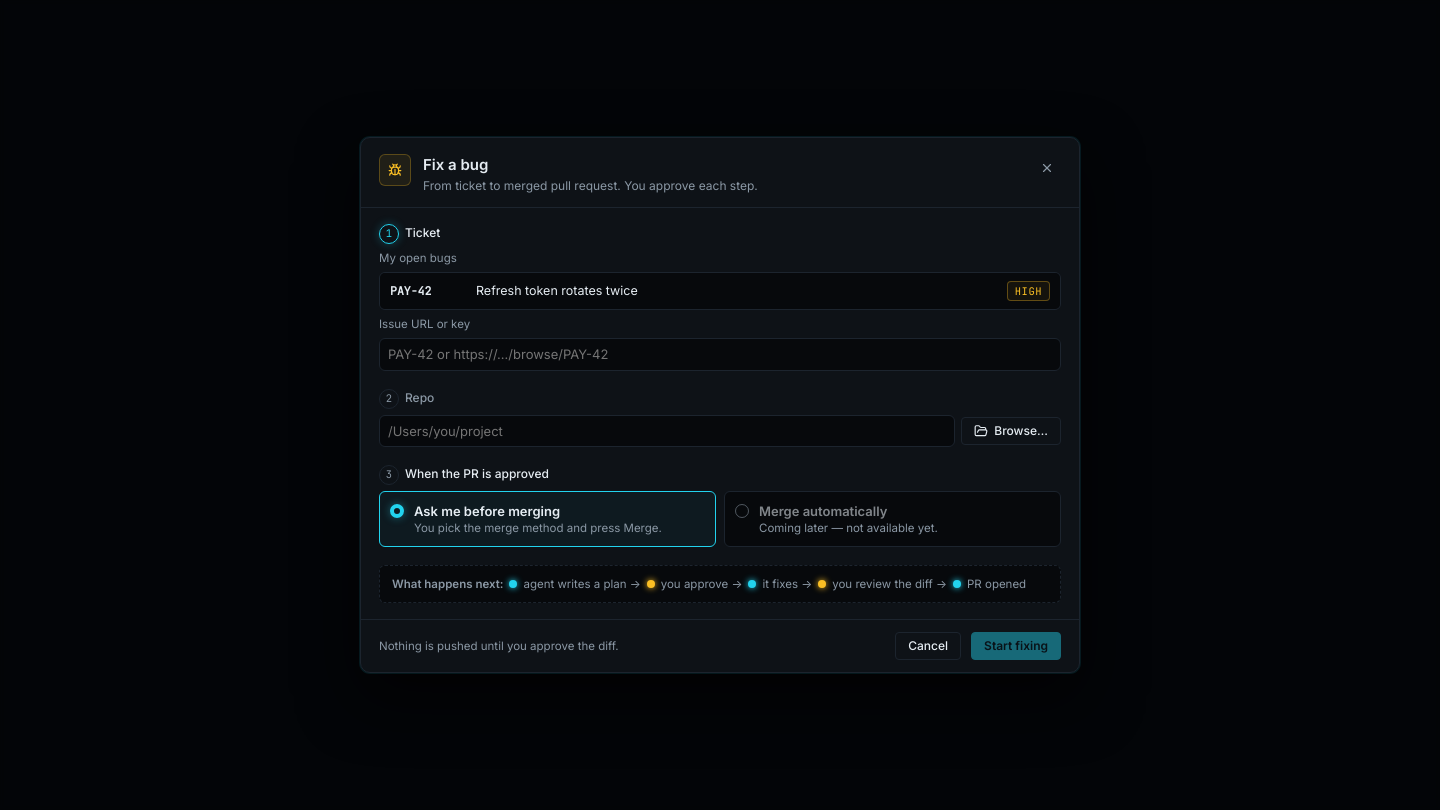
Test: BugLauncher › surfaces a failed issue lookup instead of silently doing nothing
Type "PAY-42" into the field labelled "Issue URL or key" at {"x": 720, "y": 355}, box [379,338,1061,371]
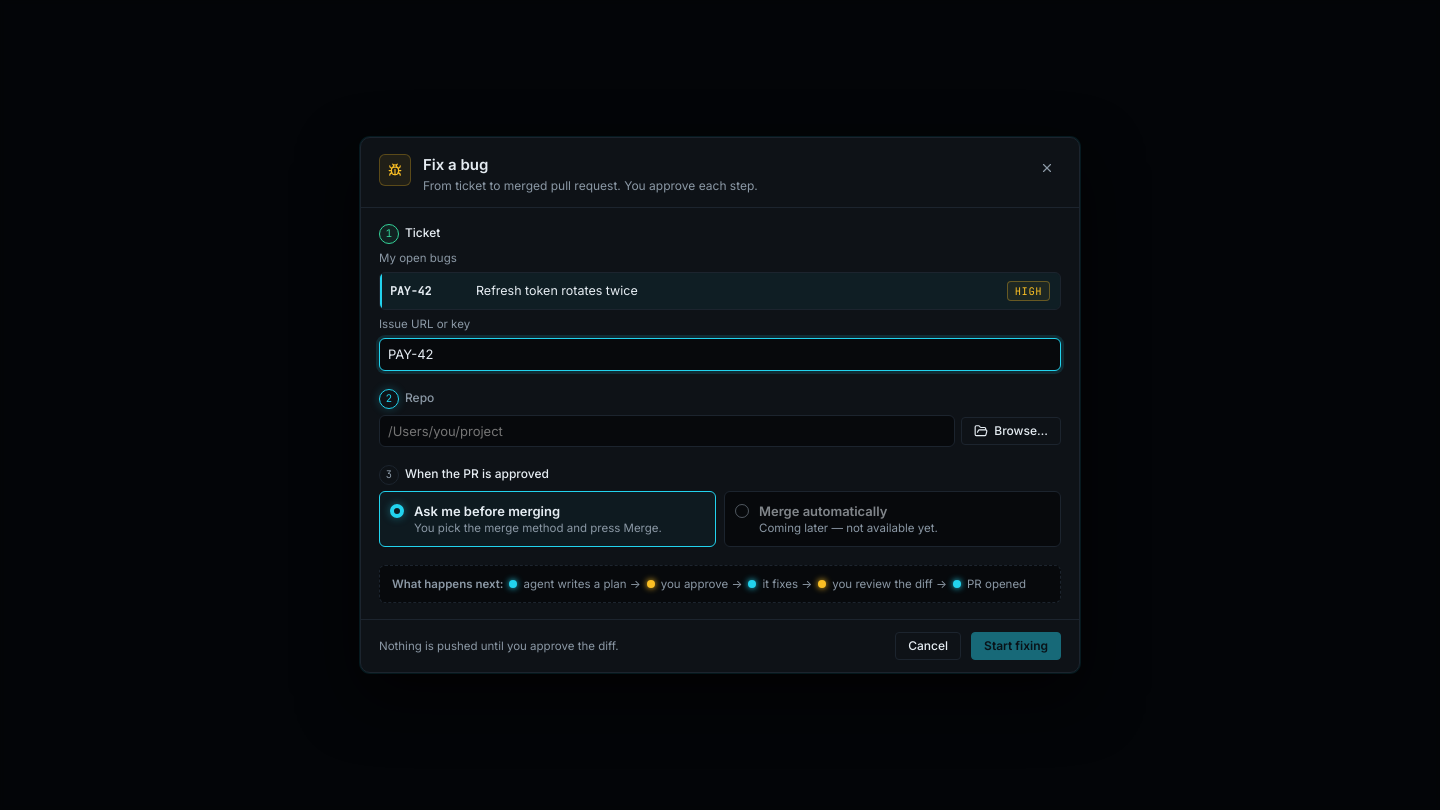
Type "/r/payments" into the field labelled "Repo" at {"x": 667, "y": 431}, box [379,415,955,447]
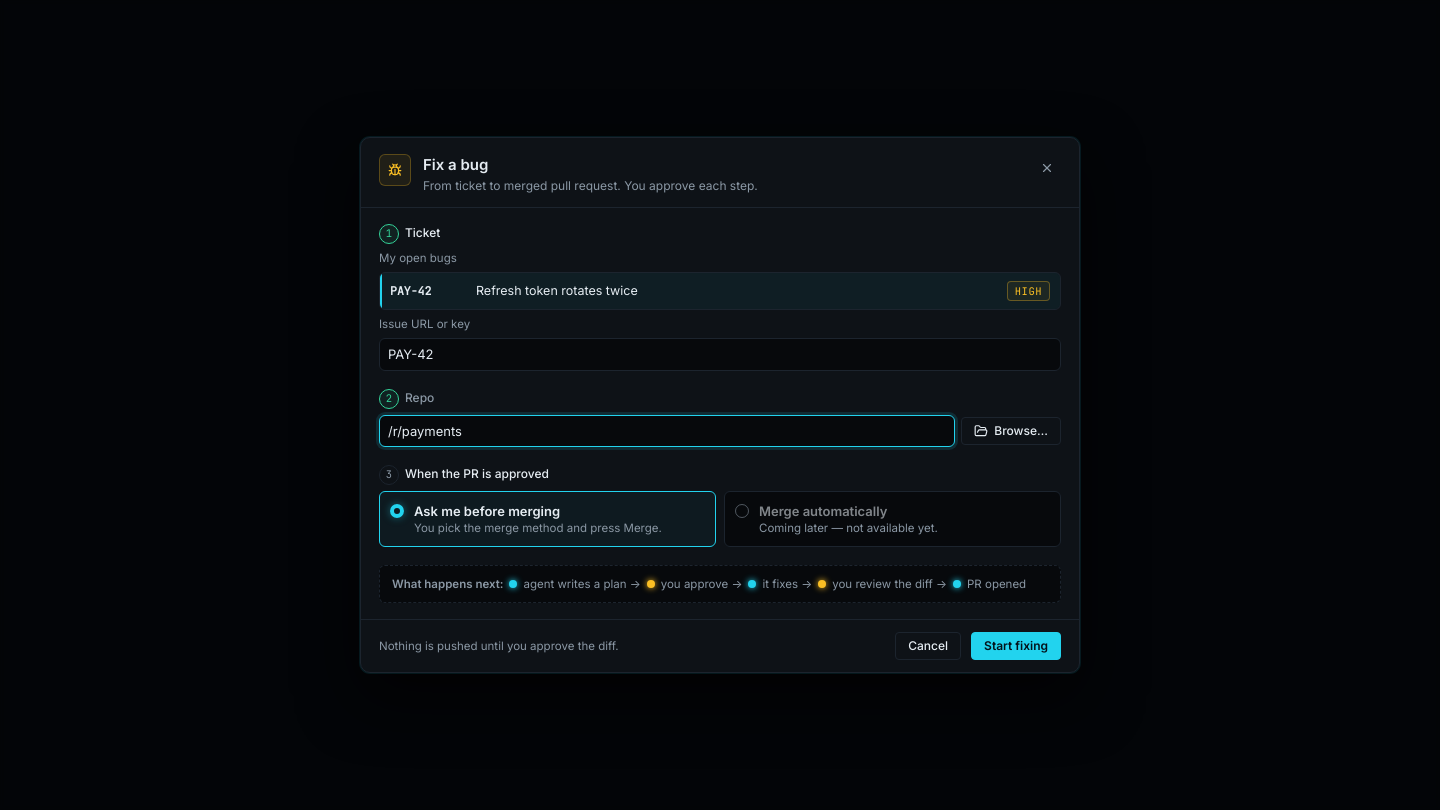
Check: the button "Start fixing" is enabled
Click the button "Start fixing" at {"x": 1016, "y": 646}, box [971,632,1061,660]
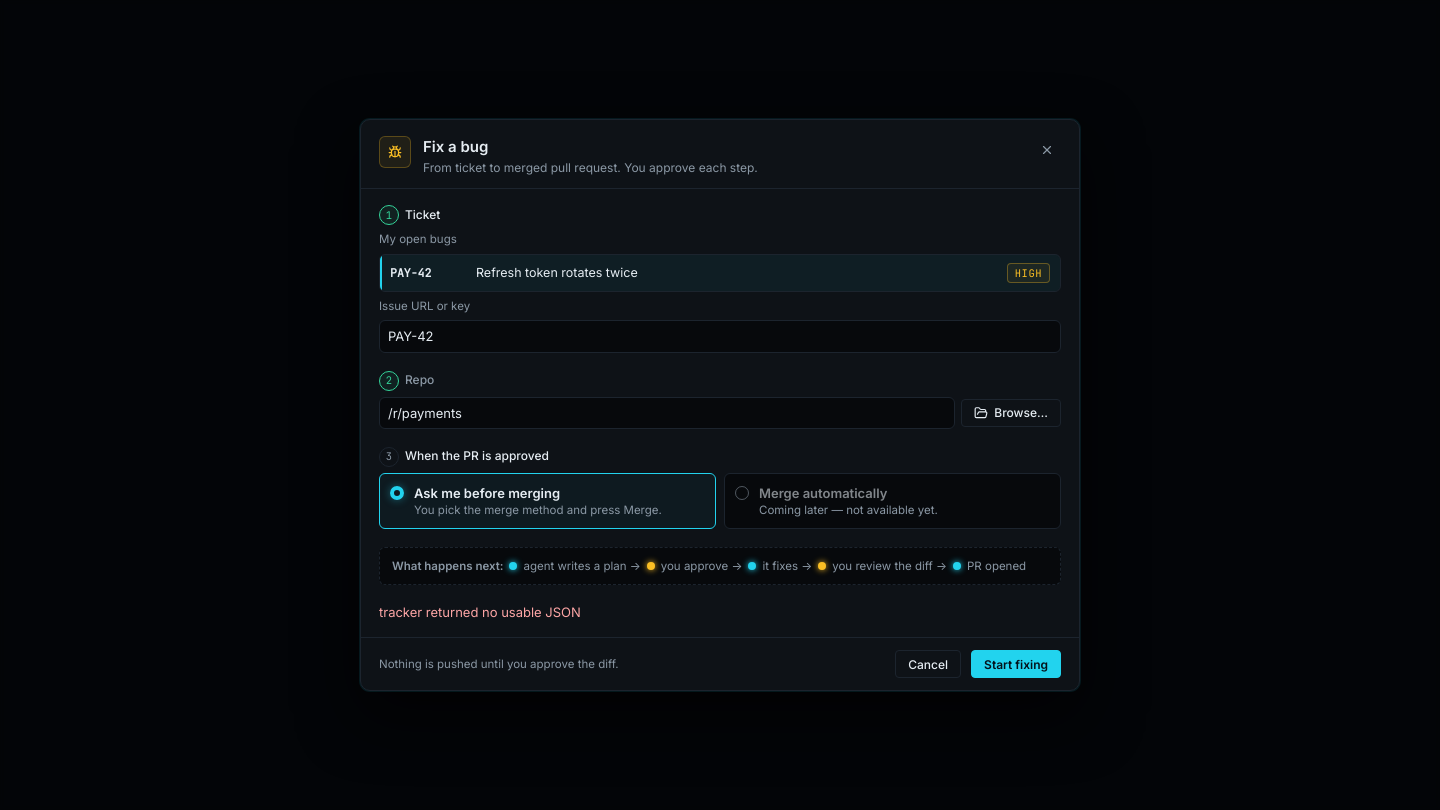
Check: the text "tracker returned no usable JSON" is shown, box [379,604,581,620]
